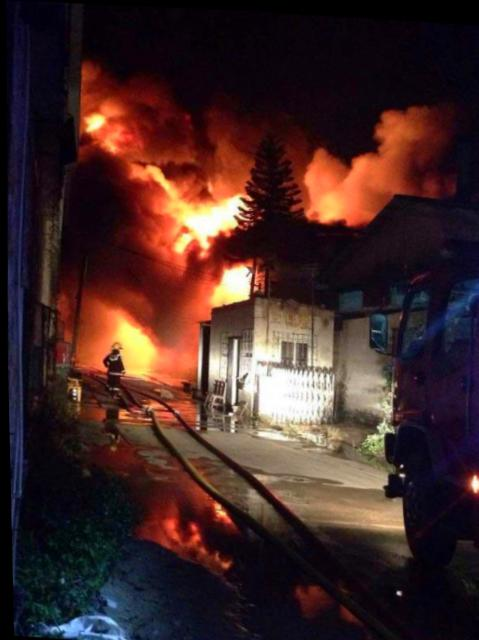fire: (172, 192, 243, 239), (113, 321, 149, 377), (208, 261, 247, 301), (83, 111, 104, 133)
